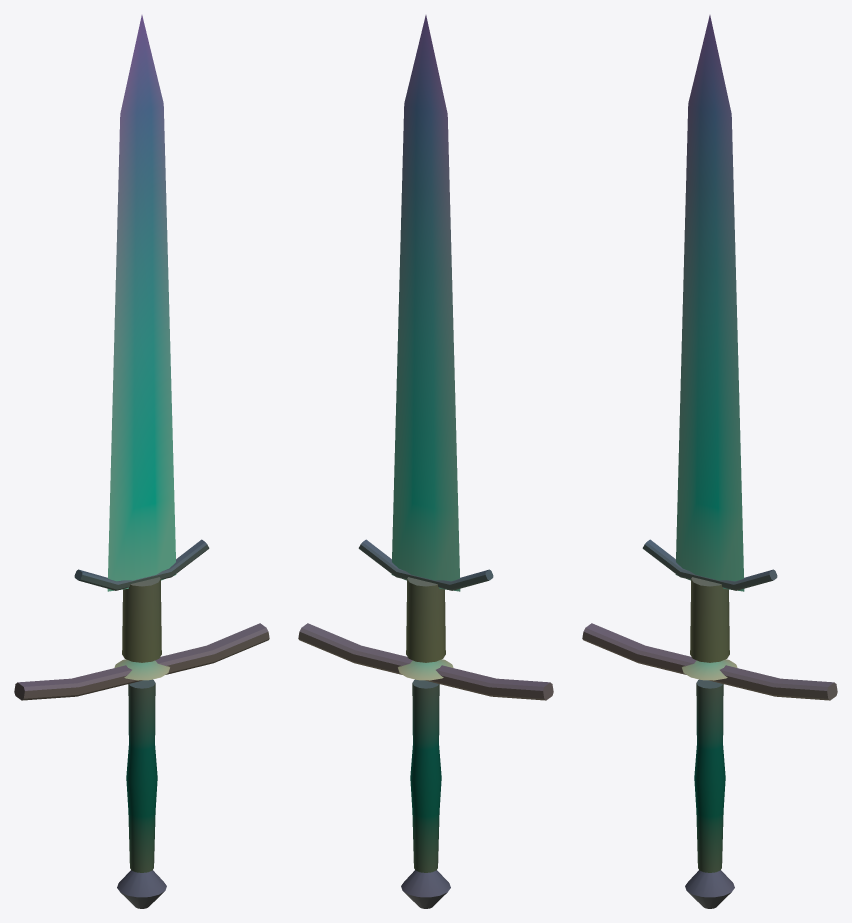
Rendered from greatsword_pilgrim.glb.
The picture shows the model from 3 angles, left to right: view 1: azimuth 30°, elevation 25°; view 2: azimuth 150°, elevation 25°; view 3: azimuth 330°, elevation 25°; orthographic projection.
Visible parts, largest first — view 1: blade, grip, cross, ricasso, lugs, pommel, sun_disc; view 2: blade, grip, cross, ricasso, lugs, pommel, sun_disc; view 3: blade, grip, cross, ricasso, lugs, pommel, sun_disc.
Part boxes in pixels (bbox=[...]): blade: bbox=[107, 15, 176, 591]; grip: bbox=[126, 679, 157, 872]; cross: bbox=[14, 623, 269, 700]; ricasso: bbox=[122, 577, 161, 662]; lugs: bbox=[74, 539, 209, 590]; pommel: bbox=[117, 870, 166, 908]; sun_disc: bbox=[114, 659, 169, 680]; blade: bbox=[391, 15, 460, 591]; grip: bbox=[410, 679, 441, 872]; cross: bbox=[298, 623, 553, 700]; ricasso: bbox=[406, 577, 445, 662]; lugs: bbox=[358, 539, 493, 590]; pommel: bbox=[401, 870, 450, 908]; sun_disc: bbox=[398, 659, 453, 680]; blade: bbox=[675, 15, 744, 591]; grip: bbox=[694, 679, 725, 872]; cross: bbox=[582, 623, 837, 700]; ricasso: bbox=[690, 577, 729, 662]; lugs: bbox=[642, 539, 777, 590]; pommel: bbox=[685, 870, 734, 908]; sun_disc: bbox=[682, 659, 737, 680].
Bounding box in the file's own units: 0.5446 × 1.88 × 0.1053.
